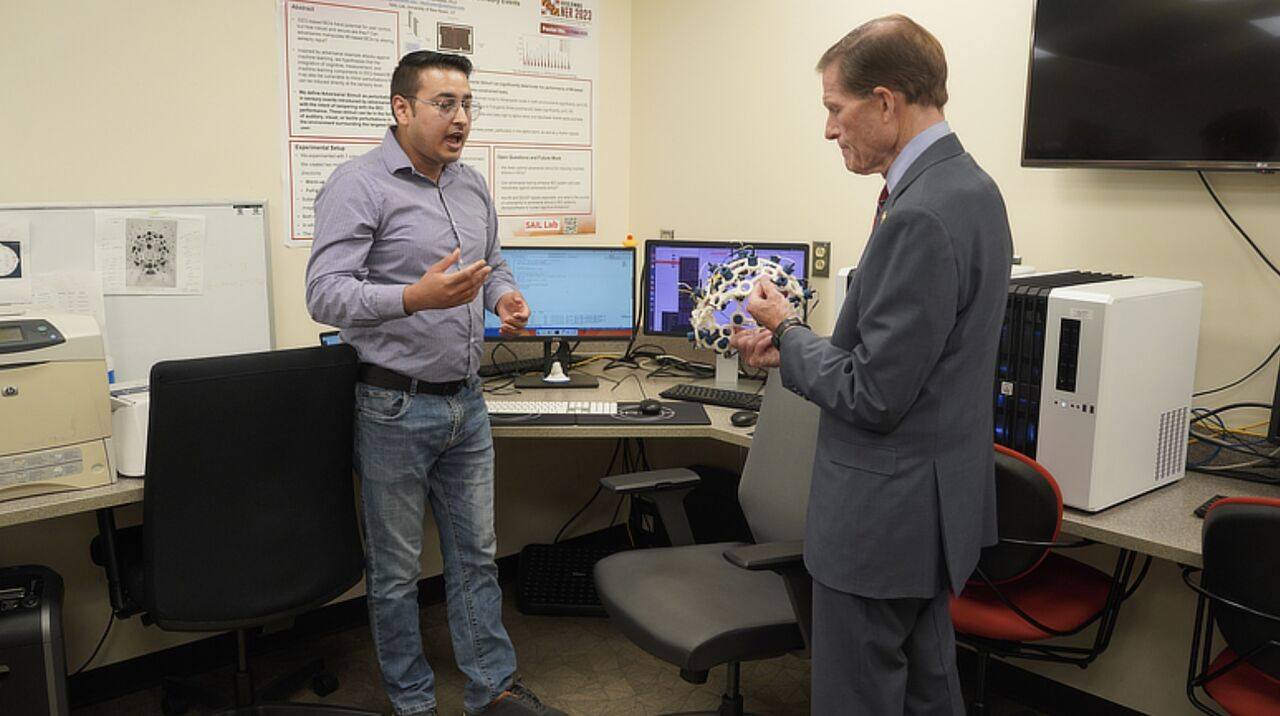Staff: (755, 0, 1002, 233), (347, 42, 554, 262)
